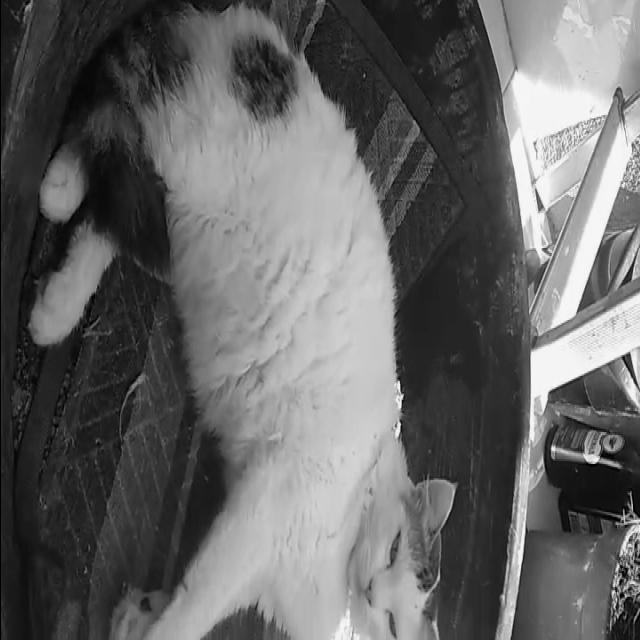Simba: (5, 60, 457, 638)
